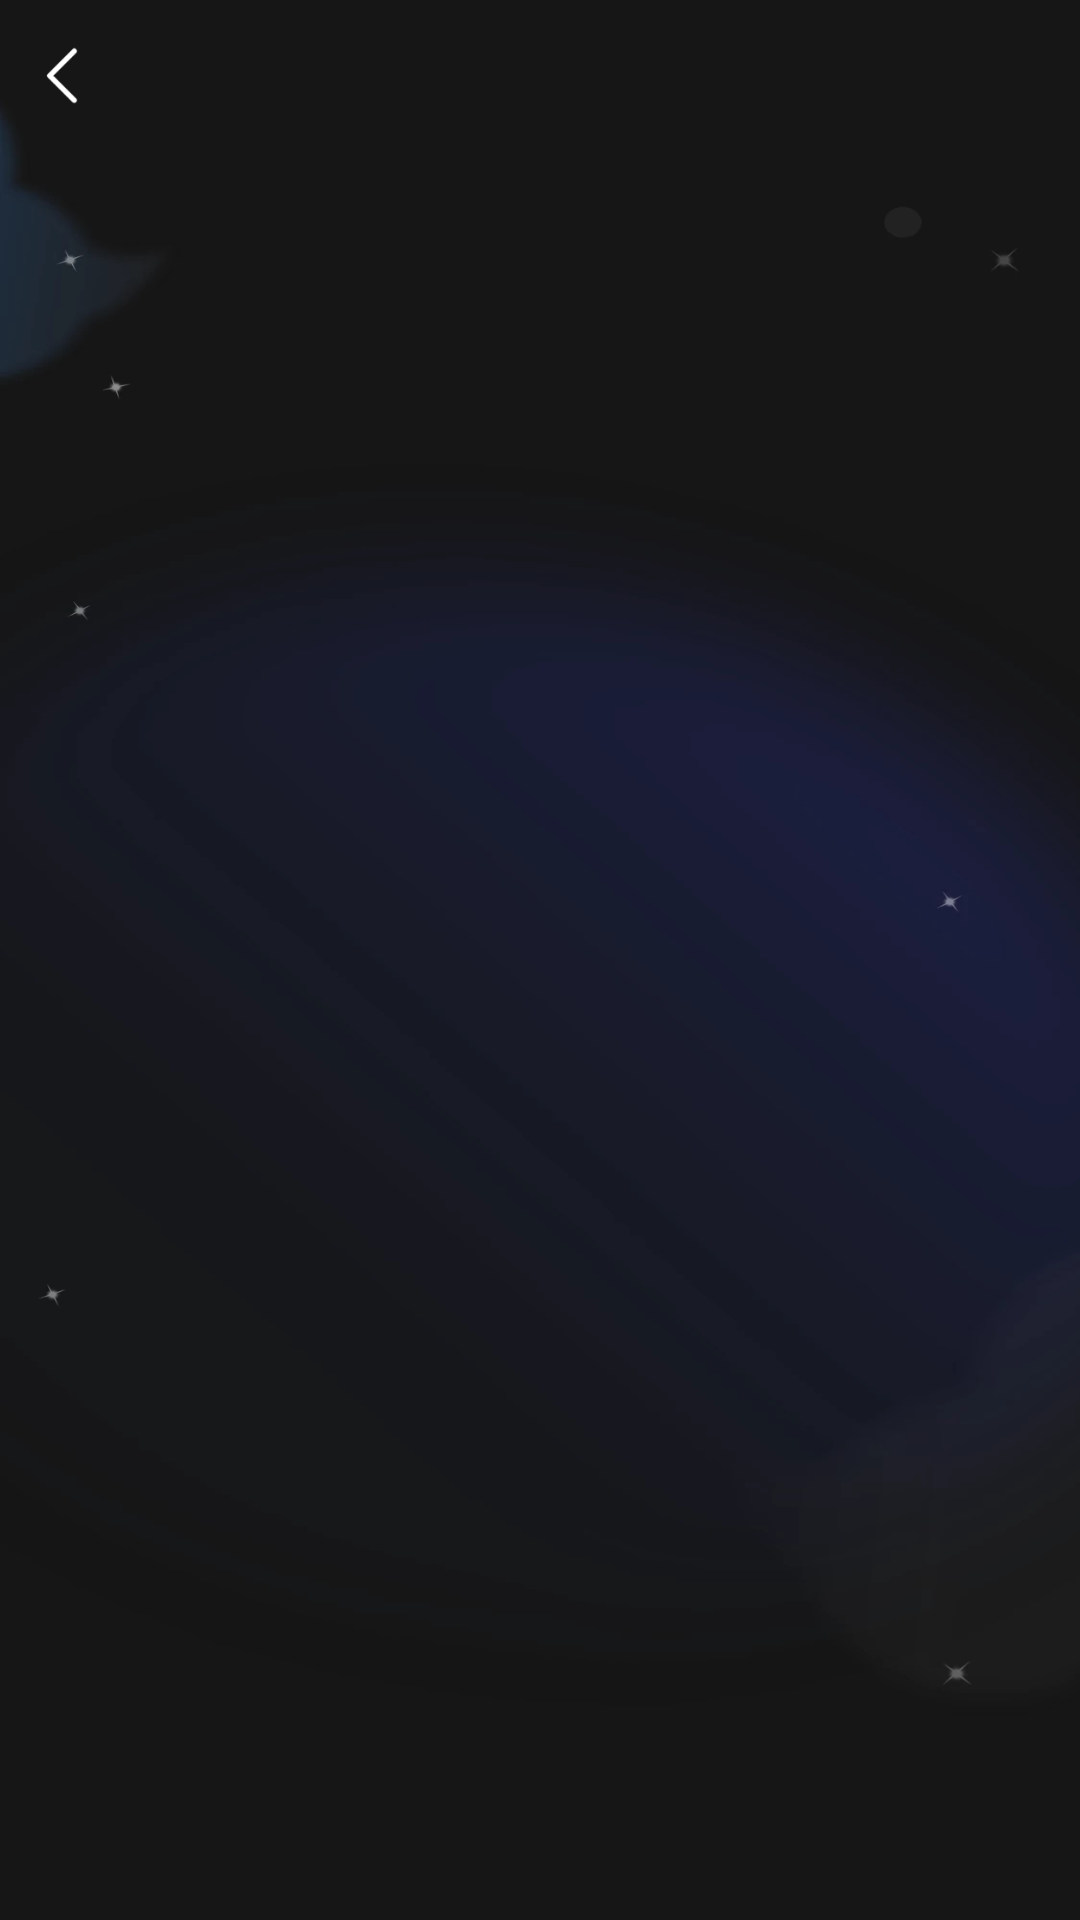

Icon click points for this 1080px×1920px phone screenshot, format (x=x, y=y):
back: (x=62, y=76)
